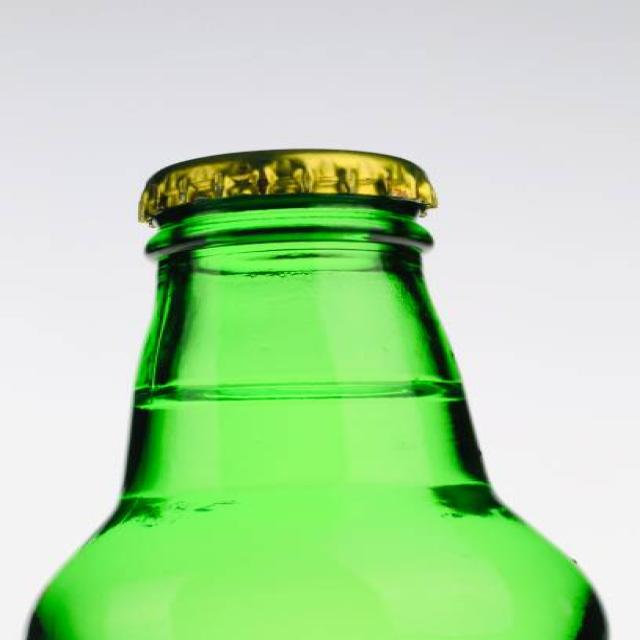electronic: (22, 139, 620, 640)
